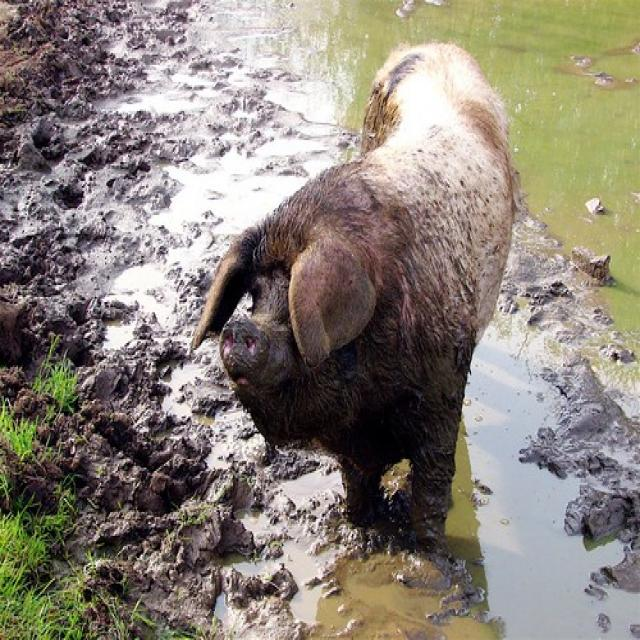boar: (185, 28, 554, 569)
